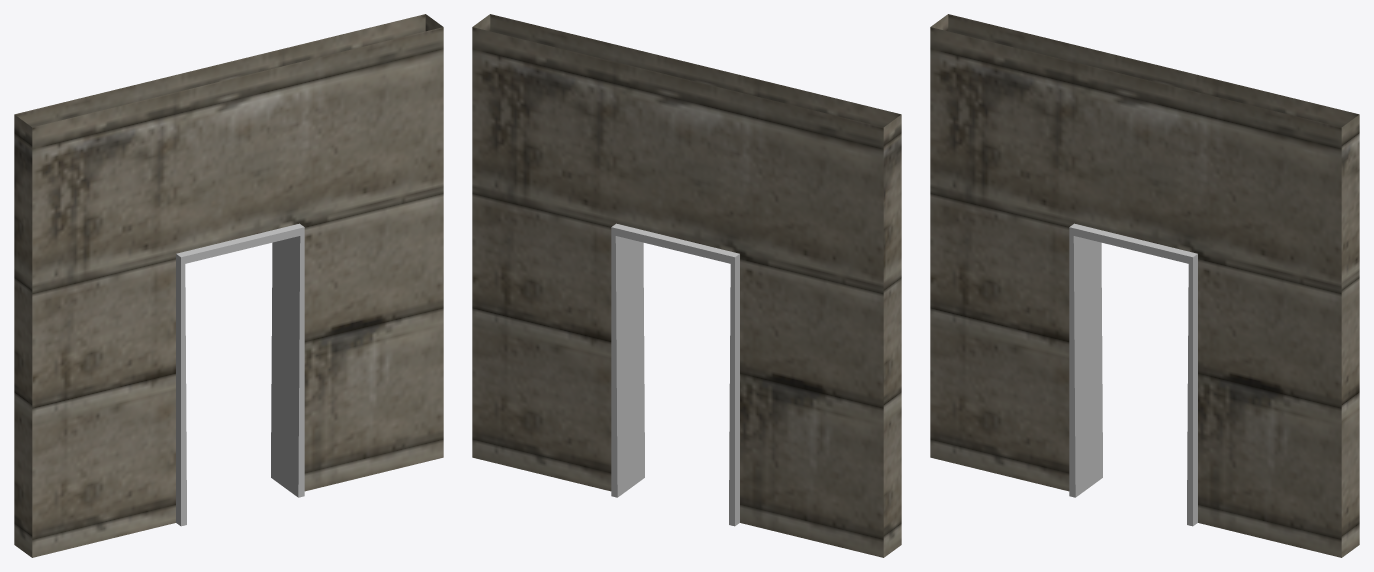
The model's file is MO_WALL_S_DOOR_01.fbx.
3 renders of one model, left to right at view 1: azimuth 30°, elevation 25°; view 2: azimuth 150°, elevation 25°; view 3: azimuth 330°, elevation 25°, orthographic.
Parts seen in each view (by area): view 1: MO_WALL_S_DOOR_01; view 2: MO_WALL_S_DOOR_01; view 3: MO_WALL_S_DOOR_01.
Part boxes in pixels (x1,y1,x2,y2): MO_WALL_S_DOOR_01: [14, 14, 443, 557]; MO_WALL_S_DOOR_01: [472, 14, 901, 557]; MO_WALL_S_DOOR_01: [930, 14, 1359, 557].
Bounding box in the file's own units: 4 × 4 × 0.464.
